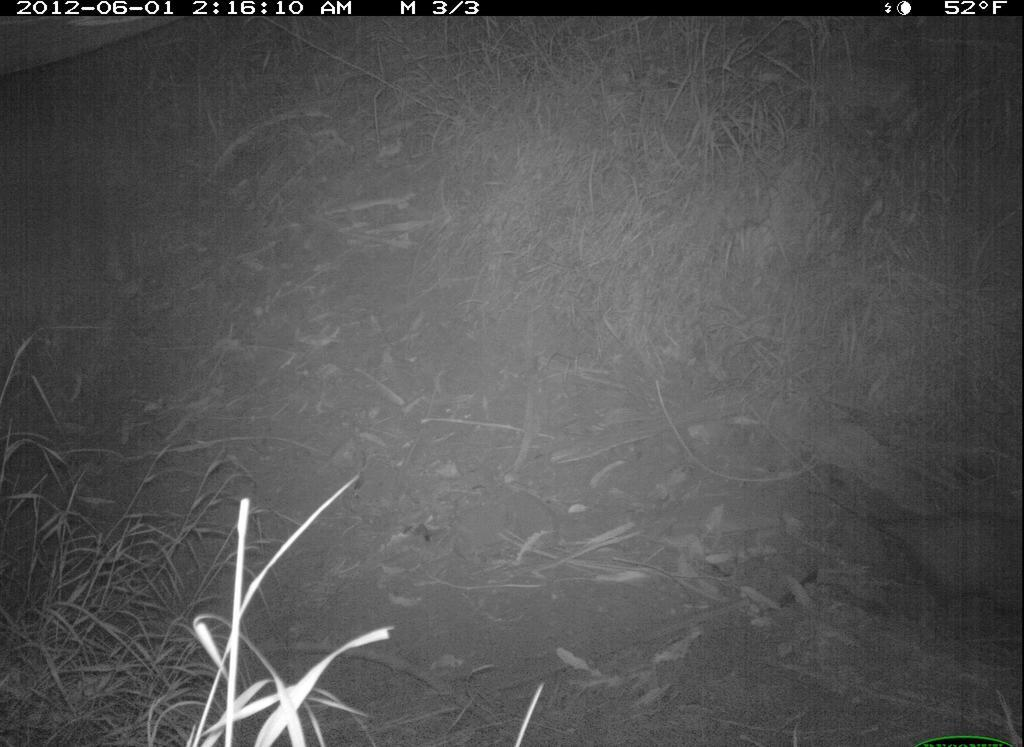opossum: (818, 484, 1023, 620)
